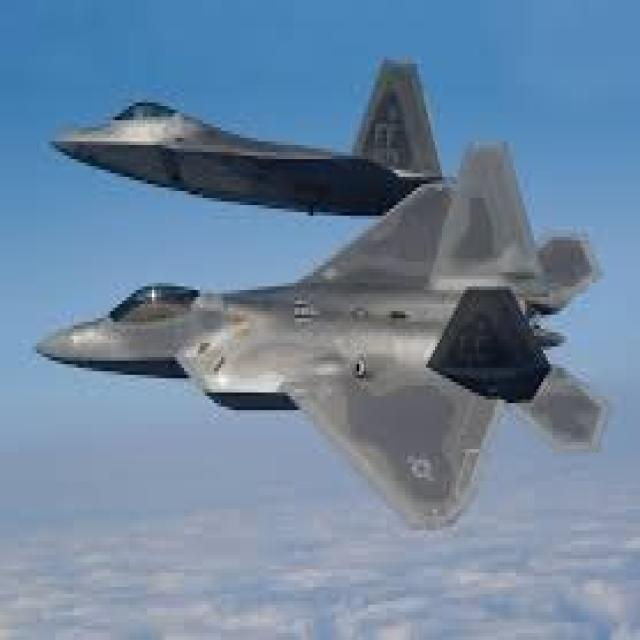F22: (16, 168, 636, 550), (45, 11, 479, 250)
